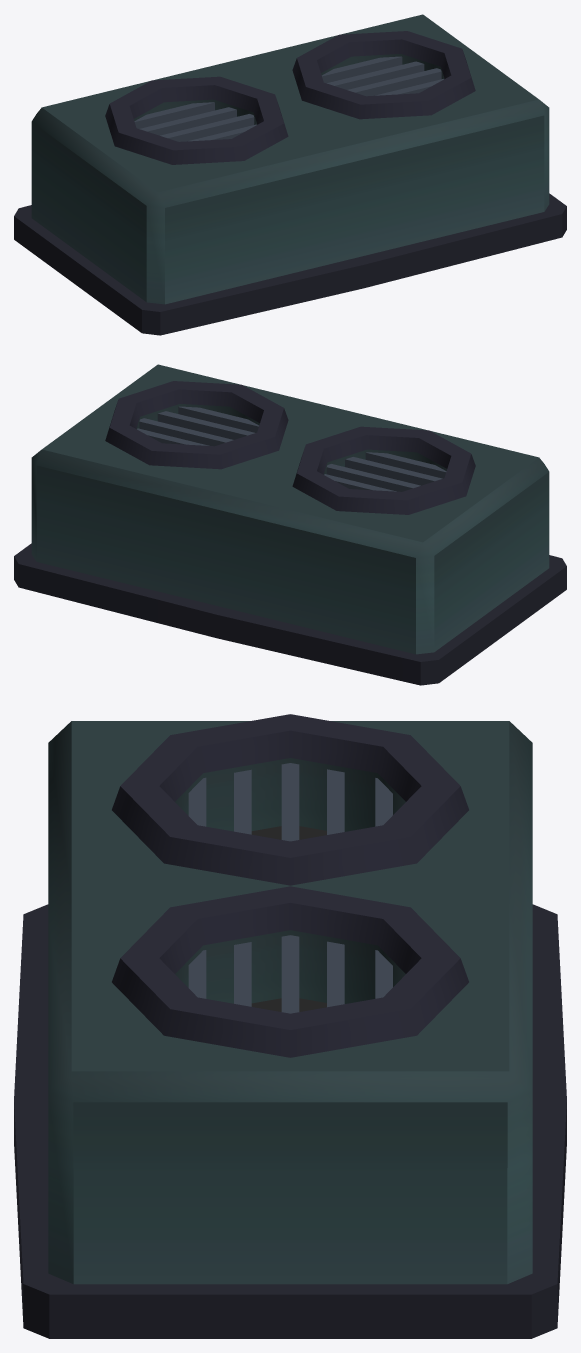
The model's file is Vent_3_D.fbx.
3 renders of one model, top to bottom at view 1: azimuth 30°, elevation 25°; view 2: azimuth 150°, elevation 25°; view 3: azimuth 270°, elevation 25°, orthographic. The views are drawn at different scales.
Parts seen in each view (by area): view 1: Vent_3_D; view 2: Vent_3_D; view 3: Vent_3_D.
Part boxes in pixels (left/top/right/bottom): Vent_3_D: left=14, top=14, right=566, bottom=335; Vent_3_D: left=14, top=364, right=566, bottom=685; Vent_3_D: left=14, top=714, right=566, bottom=1338.
Bounding box in the file's own units: 323 × 105 × 193.
